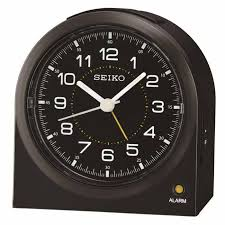alarm_clock: (11, 7, 215, 215), (11, 13, 215, 215)
